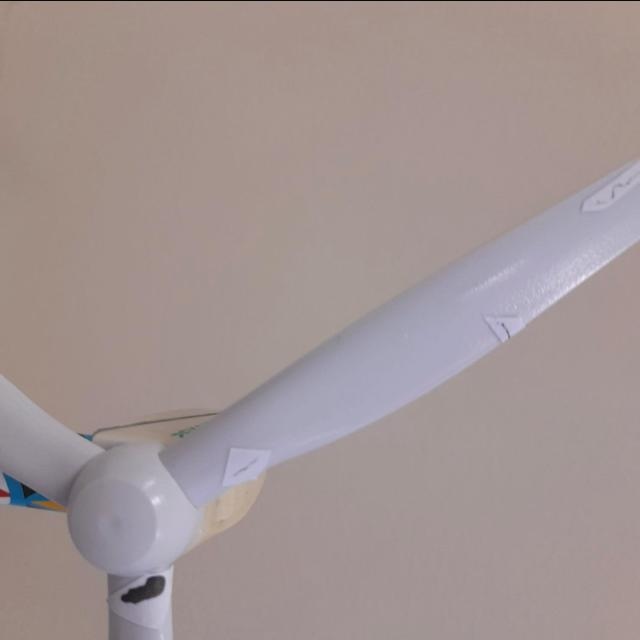dano: (582, 164, 640, 209), (114, 575, 168, 608), (220, 448, 268, 479), (490, 315, 518, 343)
